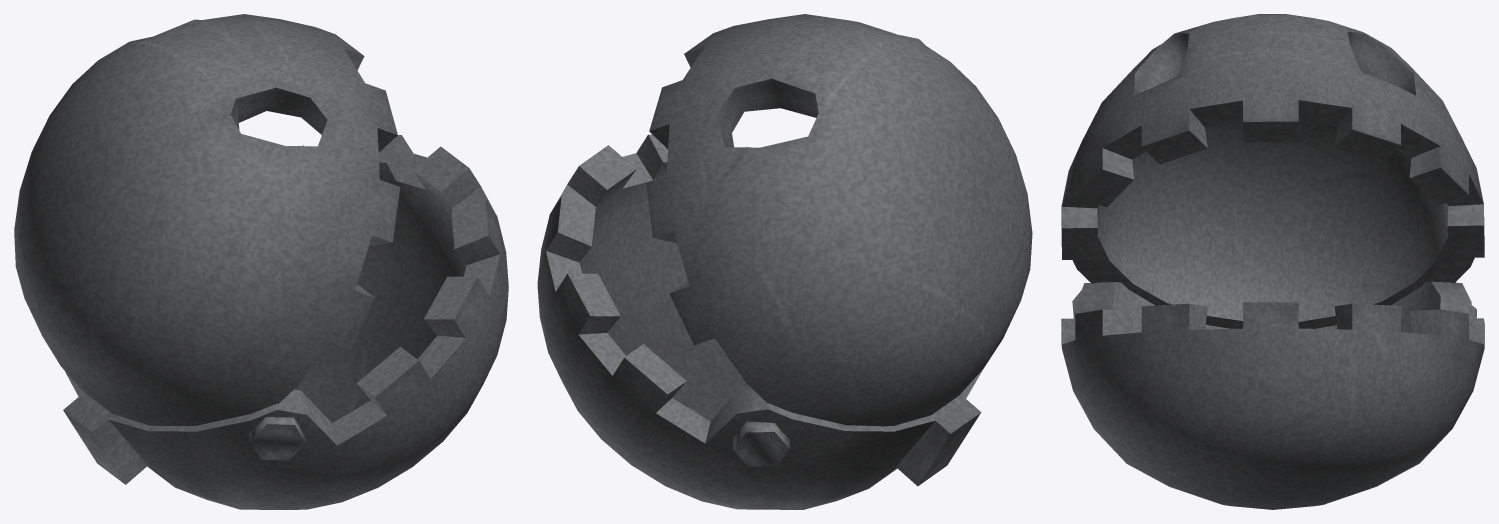
Rendered from Skull_FireBreathing.FBX.
3 views of the same model, side by side, from view 1: azimuth 30°, elevation 25°; view 2: azimuth 150°, elevation 25°; view 3: azimuth 270°, elevation 25° (orthographic). The views are drawn at different scales.
Parts seen in each view (by area): view 1: Skull_FlameMouth_UpperJaw, Skull_FlameMouth_LowerJaw; view 2: Skull_FlameMouth_UpperJaw, Skull_FlameMouth_LowerJaw; view 3: Skull_FlameMouth_UpperJaw, Skull_FlameMouth_LowerJaw.
Part boxes in pixels (x1,y1,x2,y2): Skull_FlameMouth_UpperJaw: (14, 14, 400, 425); Skull_FlameMouth_LowerJaw: (63, 135, 508, 509); Skull_FlameMouth_UpperJaw: (646, 14, 1032, 426); Skull_FlameMouth_LowerJaw: (537, 134, 983, 509); Skull_FlameMouth_UpperJaw: (1061, 14, 1484, 328); Skull_FlameMouth_LowerJaw: (1061, 281, 1484, 509).
Size of the model in its own units: 2873 by 2909 by 2541.
